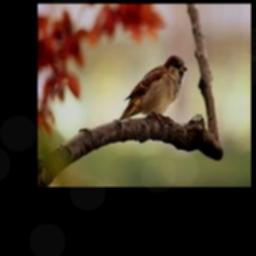Sparrow: (118, 55, 188, 120)
